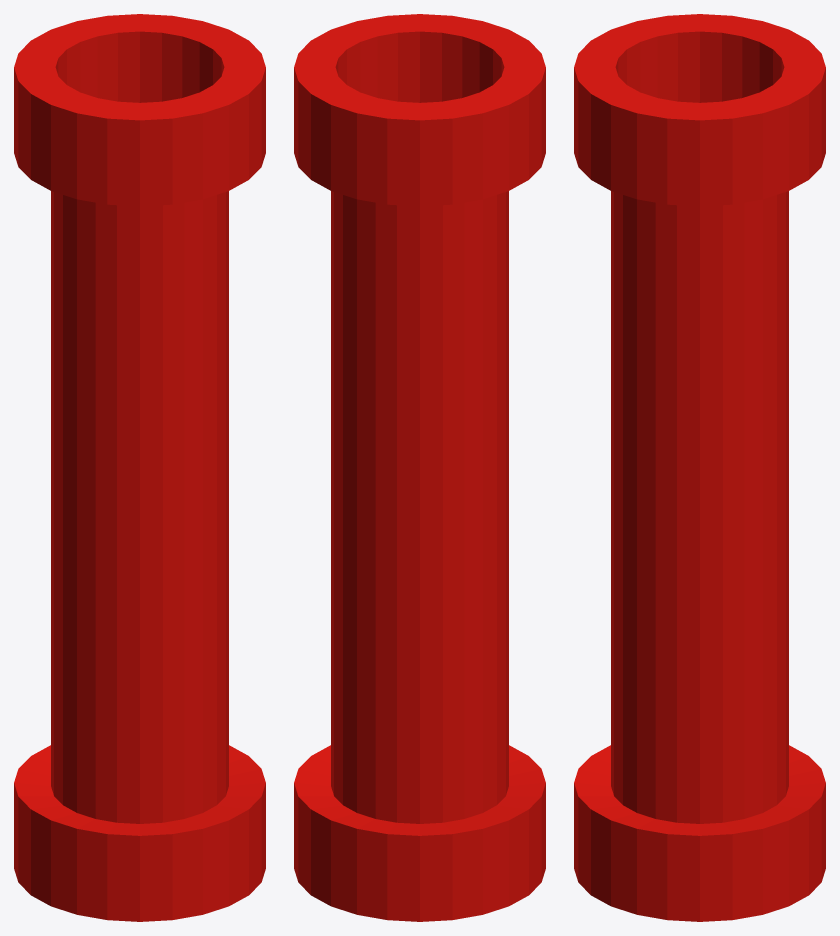
Rendered from RedPipe.glb.
3 views of the same model, side by side, from view 1: azimuth 30°, elevation 25°; view 2: azimuth 150°, elevation 25°; view 3: azimuth 270°, elevation 25° (orthographic).
Parts seen in each view (by area): view 1: RedPipe; view 2: RedPipe; view 3: RedPipe.
Part boxes in pixels (x1,y1,x2,y2): RedPipe: (14,14,265,921); RedPipe: (294,14,545,921); RedPipe: (574,14,825,921).
Size of the model in its own units: 2.83 by 9.95 by 2.83.
